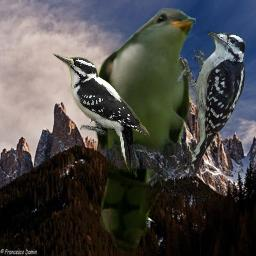Cuckoo: (91, 8, 196, 252)
Woodpecker: (52, 50, 150, 178), (177, 29, 254, 174)
